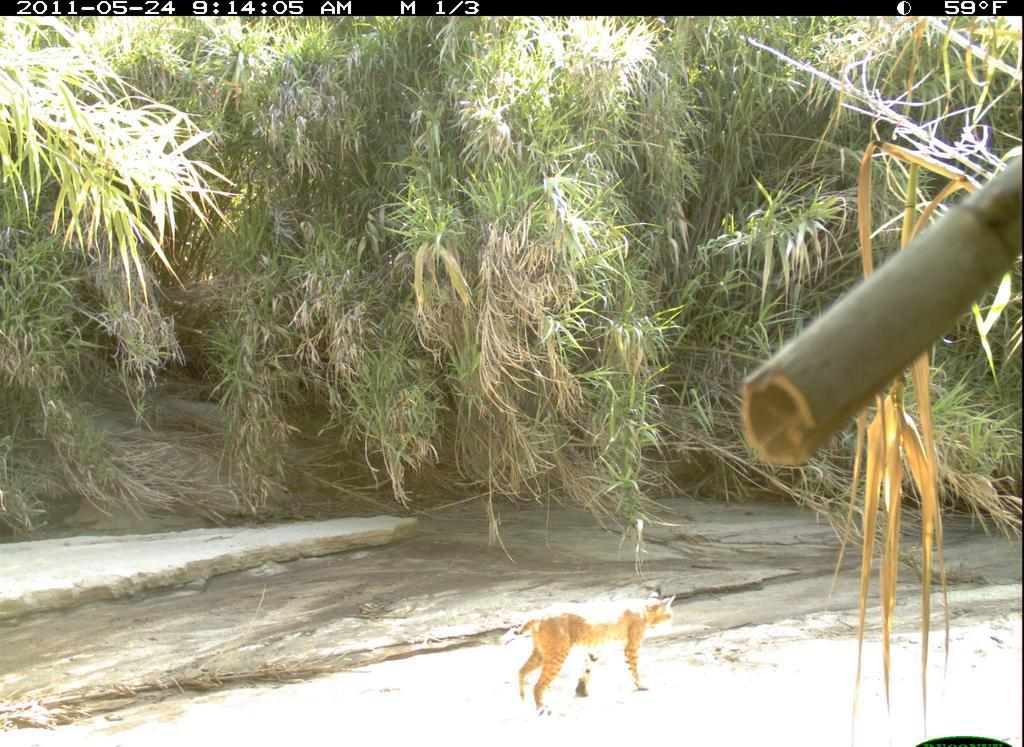bobcat: (492, 592, 693, 719)
